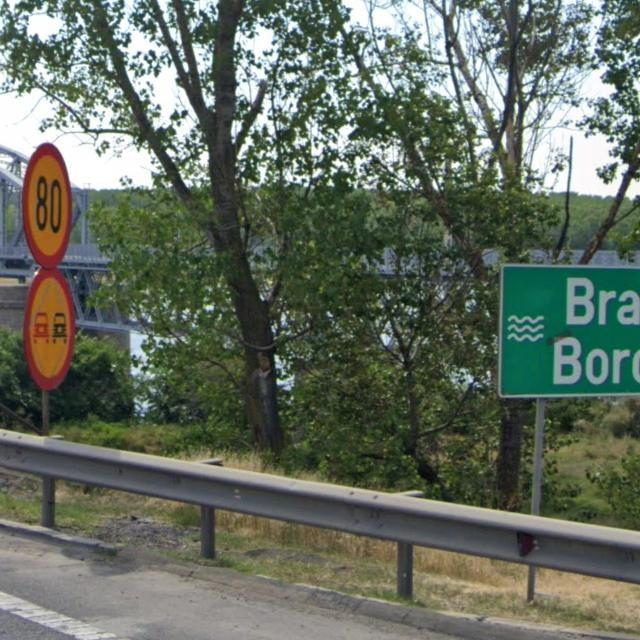forb_overtake: (22, 270, 76, 390)
forb_speed_over_80: (20, 141, 73, 269)
